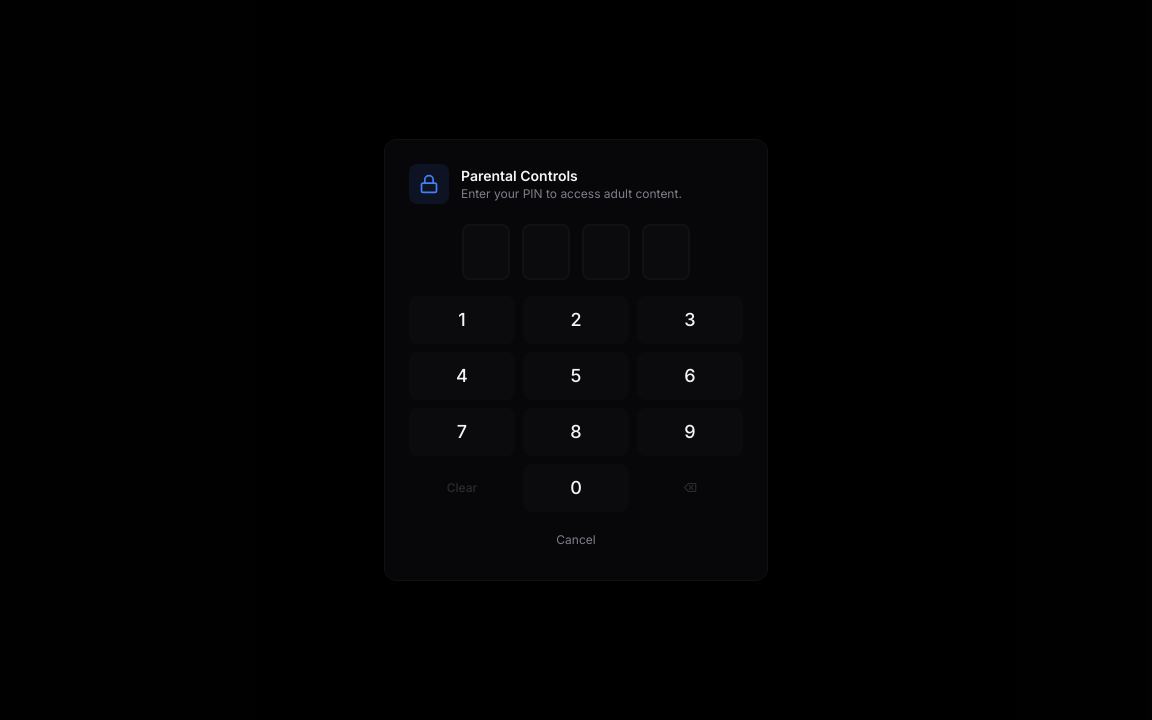
Test case: PinPrompt › backspace removes the last entered digit
The image size is (1152, 720).
Click the button "1" at point(462, 320), box x1=409 y1=296 x2=515 y2=344
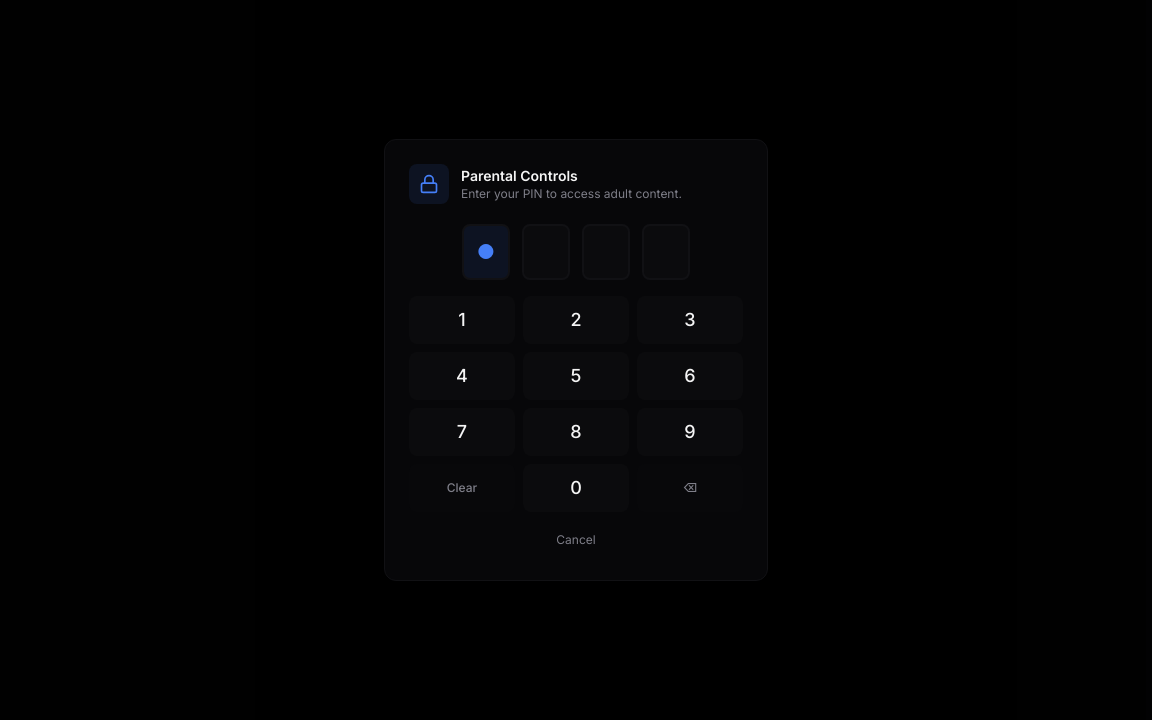
Click the button "⌫" at point(690, 488), box x1=637 y1=464 x2=743 y2=512
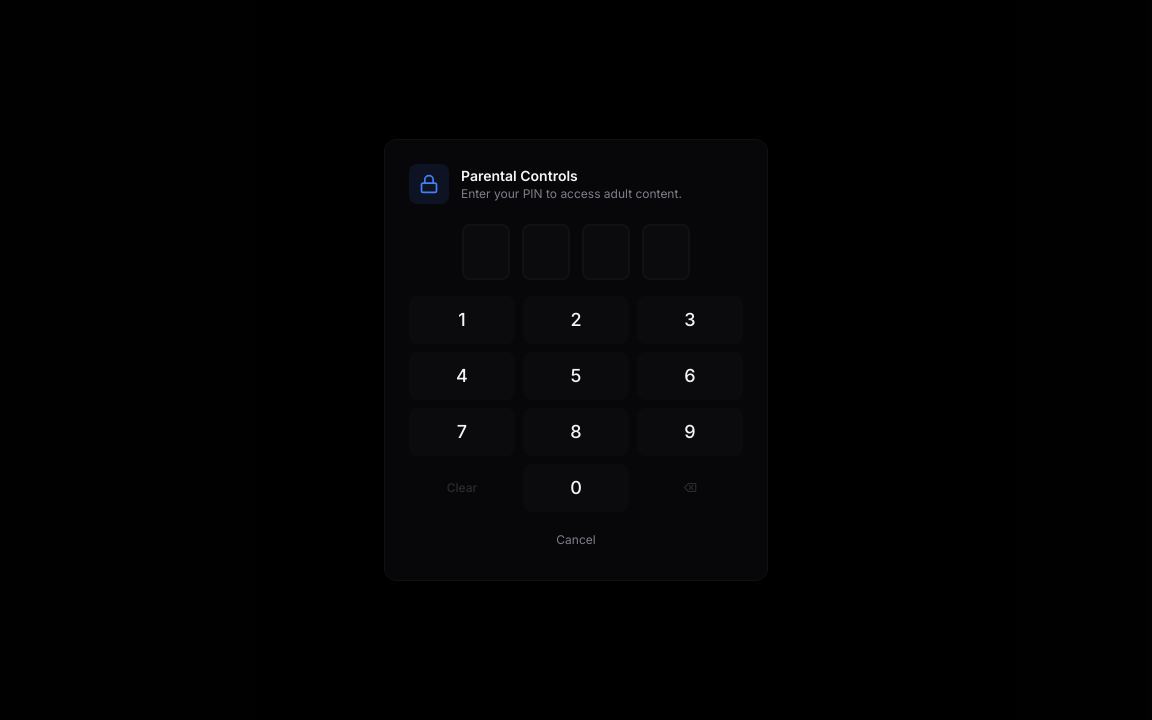
Expected: the text "●" is not shown
